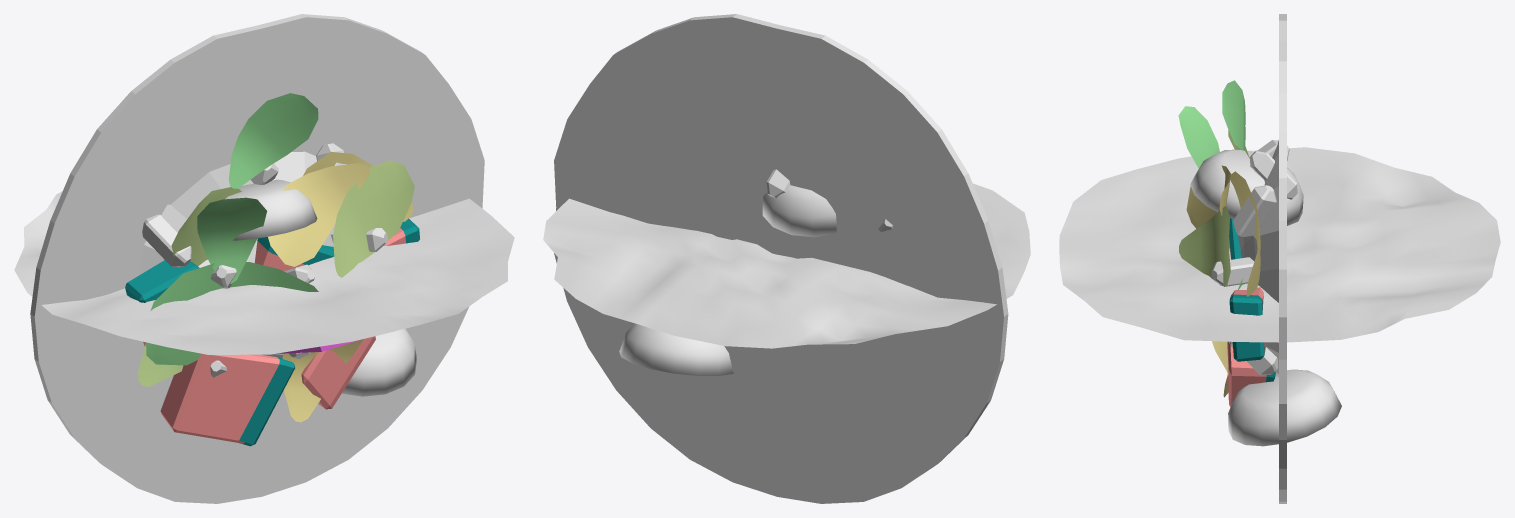
Rendered from TortillaAssembled_V1 (1).fbx.
The picture shows the model from 3 angles, left to right: view 1: azimuth 30°, elevation 25°; view 2: azimuth 150°, elevation 25°; view 3: azimuth 270°, elevation 25°; orthographic projection. The views are drawn at different scales.
Visible parts, largest first — view 1: Wrap, Tortilla_Charred, Salad.003, Meat - Chopped.001, Cube, Cylinder.001, Skin, Skin.001; view 2: Wrap, Tortilla_Charred, Skin, Skin.001, Cube; view 3: Tortilla_Charred, Salad.003, Skin, Wrap, Cube, Skin.001, Meat - Chopped.001, Cylinder.001.
Boxes of the visible parts, <box> form: Wrap: <box>30,14,484,503</box>; Tortilla_Charred: <box>14,191,514,354</box>; Salad.003: <box>138,93,414,422</box>; Meat - Chopped.001: <box>125,218,419,446</box>; Cube: <box>142,143,387,377</box>; Cylinder.001: <box>139,151,335,358</box>; Skin: <box>342,328,416,396</box>; Skin.001: <box>225,179,317,240</box>; Wrap: <box>554,14,1008,503</box>; Tortilla_Charred: <box>543,183,1030,348</box>; Skin: <box>619,323,733,375</box>; Skin.001: <box>762,185,836,237</box>; Cube: <box>766,169,892,231</box>; Tortilla_Charred: <box>1059,147,1500,342</box>; Salad.003: <box>1178,80,1260,397</box>; Skin: <box>1228,369,1341,446</box>; Wrap: <box>1279,14,1286,503</box>; Cube: <box>1211,140,1297,374</box>; Skin.001: <box>1190,149,1303,225</box>; Meat - Chopped.001: <box>1227,218,1275,406</box>; Cylinder.001: <box>1238,140,1278,376</box>.
Size of the model in its own units: 0.5939 by 0.5912 by 0.5399.
